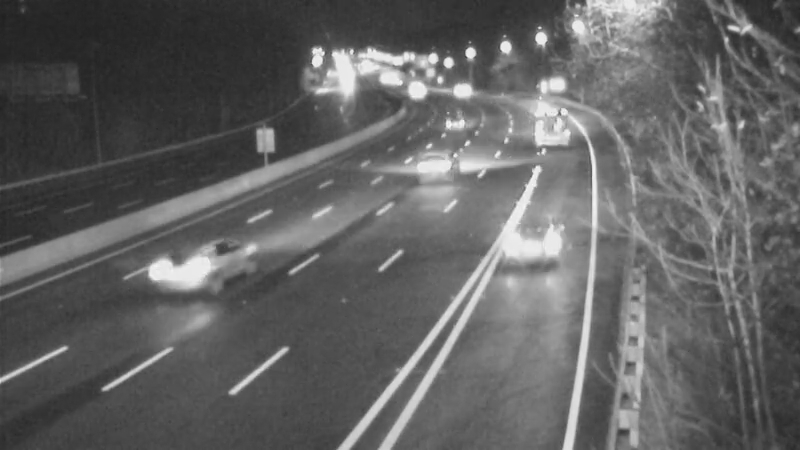vehicle: (388, 129, 468, 209), (492, 198, 572, 278), (141, 230, 221, 310), (431, 63, 481, 113), (389, 69, 439, 119), (422, 96, 472, 146), (529, 102, 579, 152)
